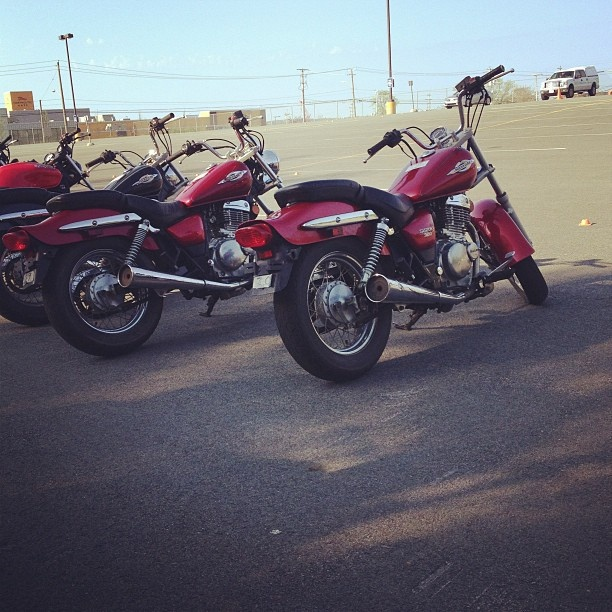non-vehicle: (233, 63, 549, 381), (31, 116, 280, 355), (0, 109, 192, 323), (0, 123, 92, 184), (0, 133, 17, 167)
